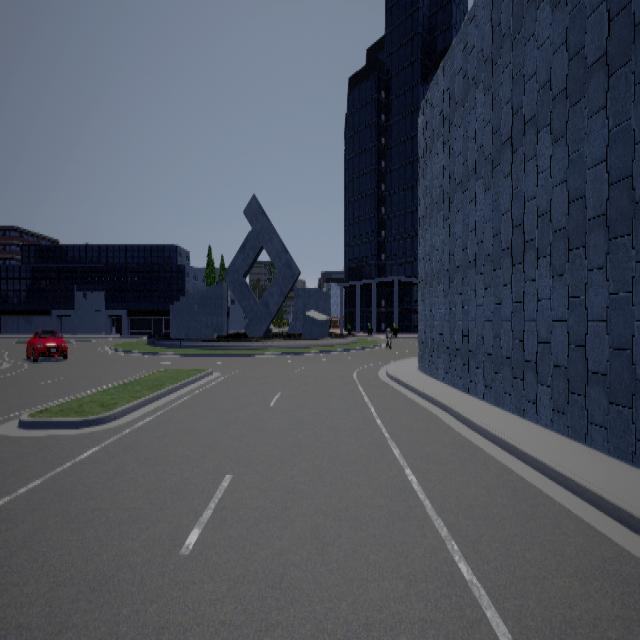bike: (381, 327, 393, 352)
vehicle: (25, 328, 67, 361)
